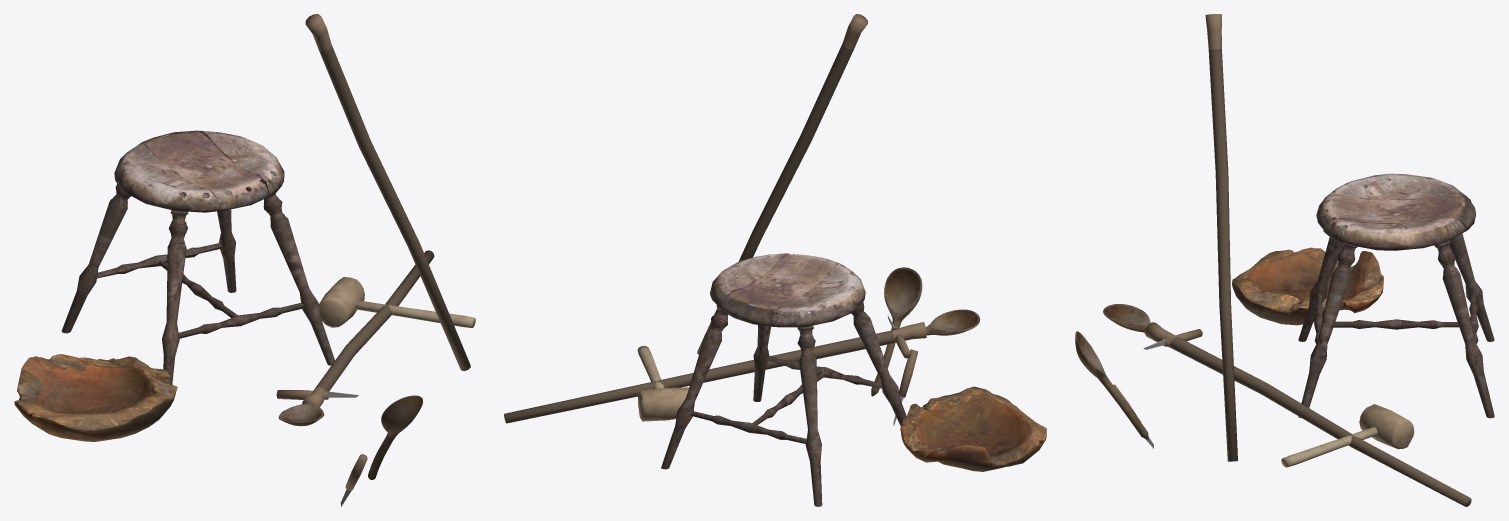
Rendered from smithy-elder-props.glb.
The picture shows the model from 3 angles, left to right: view 1: azimuth 30°, elevation 25°; view 2: azimuth 150°, elevation 25°; view 3: azimuth 270°, elevation 25°; orthographic projection. The views are drawn at different scales.
Visible parts, largest first — view 1: workplace_static, prop_stick_rest, prop_stick, prop_spoon_rest, prop_spoon, prop_knife; view 2: workplace_static, prop_stick, prop_stick_rest, prop_spoon_rest, prop_spoon; view 3: workplace_static, prop_stick_rest, prop_stick, prop_spoon_rest, prop_spoon.
Part boxes in pixels (x1=…): workplace_static: x1=14, y1=130, x2=475, y2=441; prop_stick_rest: x1=305, y1=14, x2=470, y2=370; prop_stick: x1=302, y1=250, x2=434, y2=407; prop_spoon_rest: x1=368, y1=395, x2=422, y2=479; prop_spoon: x1=278, y1=402, x2=324, y2=426; prop_knife: x1=276, y1=390, x2=358, y2=399; workplace_static: x1=637, y1=253, x2=1046, y2=506; prop_stick: x1=504, y1=322, x2=926, y2=423; prop_stick_rest: x1=697, y1=14, x2=867, y2=354; prop_spoon_rest: x1=871, y1=267, x2=922, y2=396; prop_spoon: x1=911, y1=309, x2=980, y2=338; workplace_static: x1=1232, y1=173, x2=1494, y2=467; prop_stick_rest: x1=1205, y1=14, x2=1237, y2=461; prop_stick: x1=1144, y1=322, x2=1471, y2=506; prop_spoon_rest: x1=1075, y1=331, x2=1148, y2=439; prop_spoon: x1=1103, y1=304, x2=1150, y2=332.
Bounding box in the file's own units: 1.1 × 0.9873 × 0.8535.
1 material, 1 textured.
